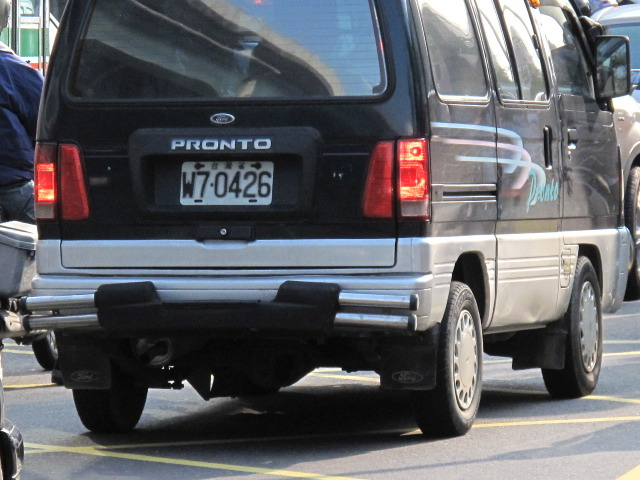plate: (178, 158, 276, 210)
